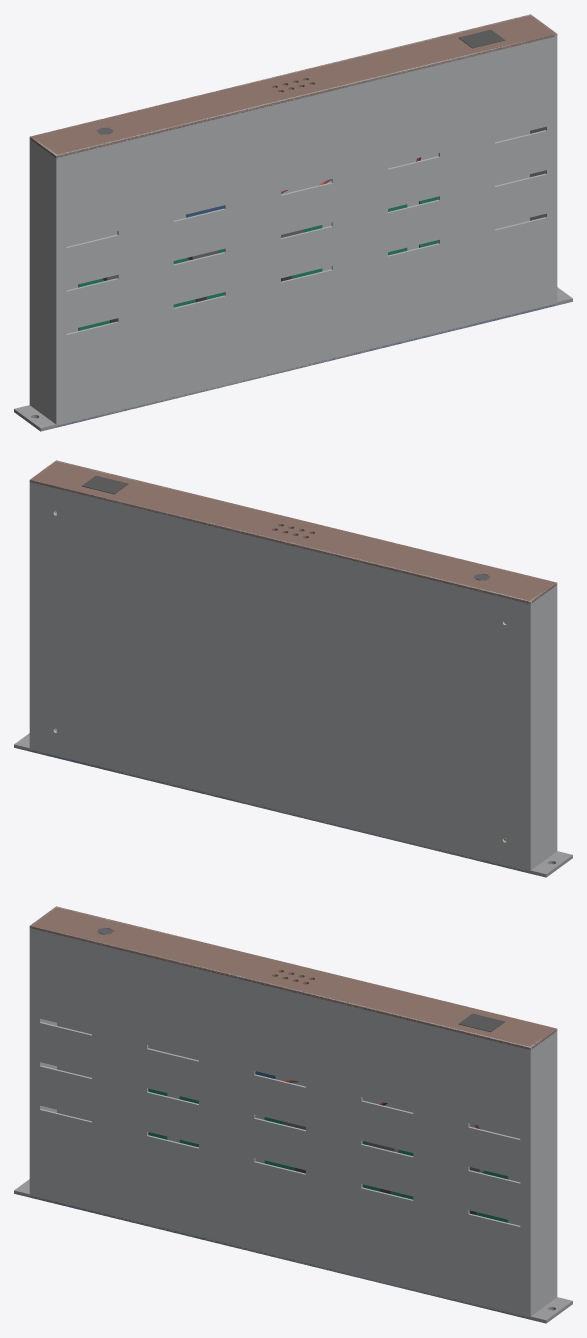
File: dds_chassis_1u.glb
The picture shows the model from 3 angles, top to bottom: view 1: azimuth 30°, elevation 25°; view 2: azimuth 150°, elevation 25°; view 3: azimuth 330°, elevation 25°; orthographic projection.
Visible parts, largest first — view 1: top_2, shell_1, side_4, bottom_3, shell_0, side_5, ear_6; view 2: bottom_3, shell_1, side_4, shell_0, top_2, ear_6; view 3: top_2, shell_1, side_5, bottom_3, shell_0, ear_7.
Part boxes in pixels (x1,y1,x2,y2): top_2: [55, 34, 557, 427]; shell_1: [29, 14, 557, 158]; side_4: [29, 139, 58, 423]; bottom_3: [29, 14, 530, 404]; shell_0: [56, 303, 557, 427]; side_5: [530, 15, 557, 305]; ear_6: [14, 405, 56, 431]; bottom_3: [29, 480, 531, 872]; shell_1: [29, 460, 557, 604]; side_4: [529, 583, 556, 872]; shell_0: [29, 731, 530, 873]; top_2: [57, 461, 557, 851]; ear_6: [530, 851, 572, 877]; top_2: [29, 926, 531, 1318]; shell_1: [29, 906, 557, 1050]; side_5: [529, 1028, 556, 1315]; bottom_3: [56, 907, 557, 1297]; shell_0: [30, 1196, 530, 1319]; ear_7: [530, 1297, 572, 1323].
Size of the model in its own units: 513 by 250 by 44.45.
